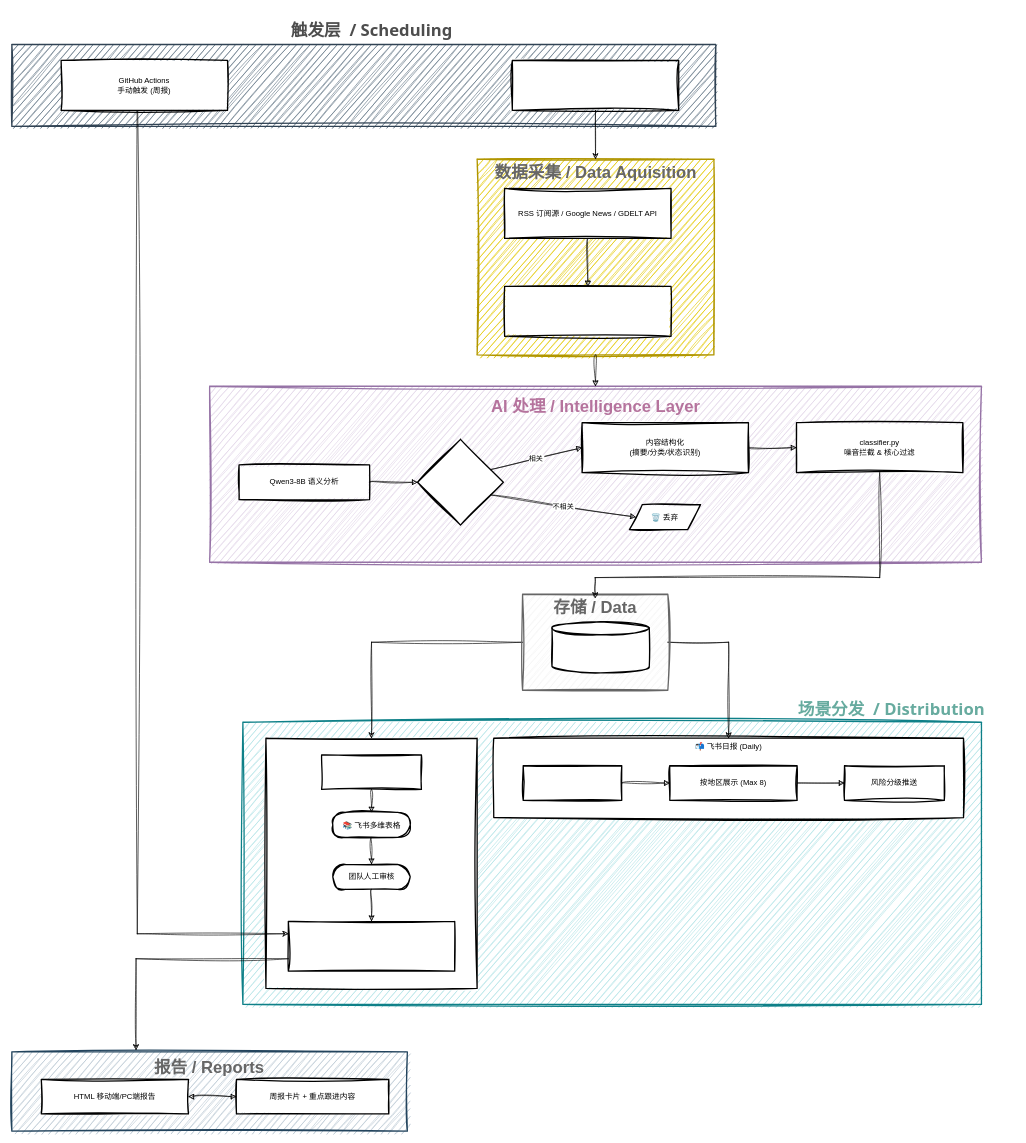
This 1026x1143 diagram has some shape labels left out. Here are the shapes that lost their labels. From the top down, the centre of each, then its label:
point (595, 85): GitHub Actions 每日 08:00 定时
point (587, 311): fetcher.py URL 去重 & 速率控制
point (460, 481): 相关性筛选
point (600, 647): SQLite monitor.db
point (371, 772): 系统自动写入
point (572, 783): AI 150字综述
point (371, 946): 状态更新 / 法务补充 分配负责人 (BP)
